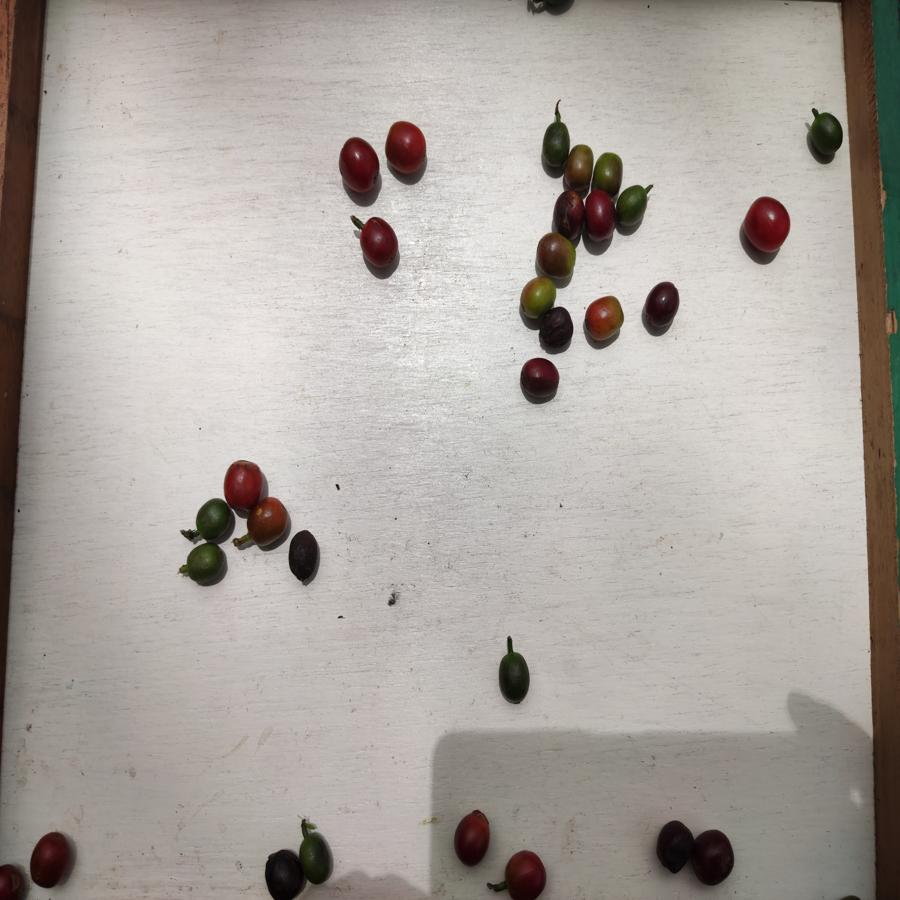Inmaduro: (494, 650, 533, 708), (300, 832, 337, 889), (180, 545, 234, 584), (191, 499, 234, 543), (807, 108, 845, 157), (617, 185, 648, 234), (541, 122, 569, 167)
Maduro: (741, 195, 790, 256), (384, 120, 430, 178), (338, 136, 382, 196), (224, 457, 261, 509)
Pinton: (585, 296, 627, 345), (248, 499, 287, 550), (535, 235, 576, 281), (564, 143, 597, 187), (517, 274, 559, 308), (597, 152, 625, 189)
Sobremaduro: (26, 832, 76, 890), (690, 824, 736, 887), (357, 209, 401, 272), (451, 809, 493, 867), (503, 851, 550, 900), (517, 357, 564, 402), (655, 820, 691, 875), (264, 848, 302, 900), (289, 530, 320, 586), (643, 281, 678, 330), (585, 191, 615, 245), (537, 308, 574, 351), (552, 190, 585, 235)
